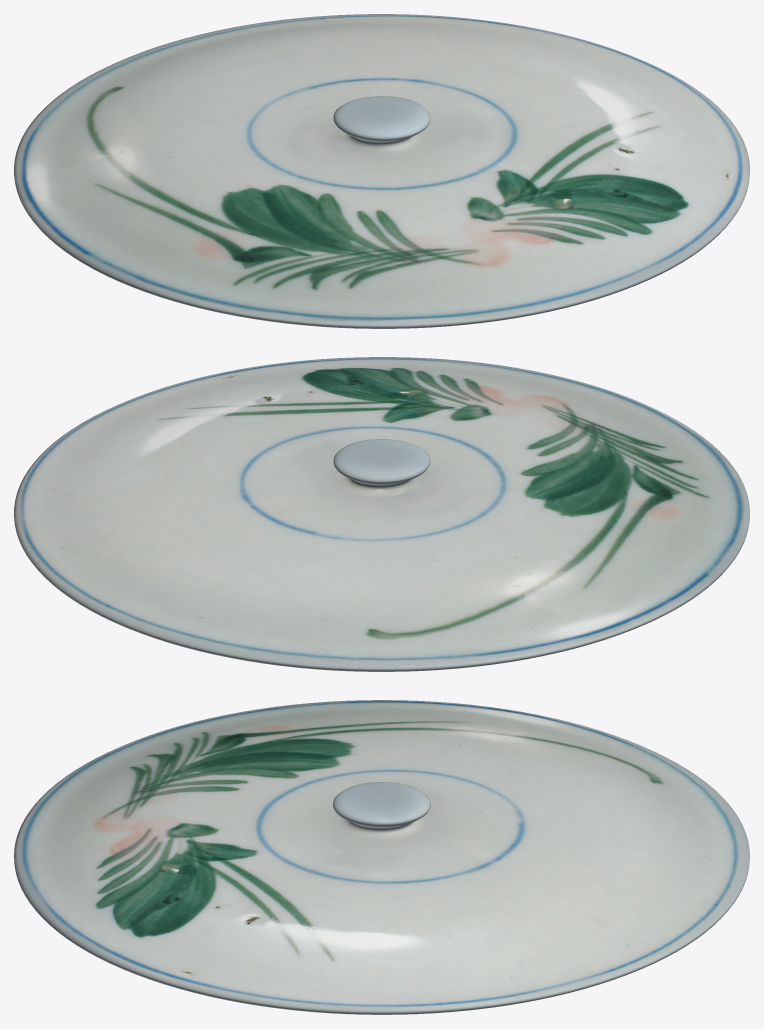
Rendered from SM_WhitePorcelainLid.fbx.
3 renders of one model, top to bottom at view 1: azimuth 30°, elevation 25°; view 2: azimuth 150°, elevation 25°; view 3: azimuth 270°, elevation 25°, orthographic.
Visible parts, largest first — view 1: SM_WhitePorcelainLid; view 2: SM_WhitePorcelainLid; view 3: SM_WhitePorcelainLid.
Boxes of the visible parts, left/top/right/bottom form: SM_WhitePorcelainLid: left=14, top=14, right=749, bottom=328; SM_WhitePorcelainLid: left=14, top=357, right=749, bottom=671; SM_WhitePorcelainLid: left=14, top=700, right=749, bottom=1014.
Size of the model in its own units: 40.56 by 4.29 by 40.56.
1 material, 1 textured.
